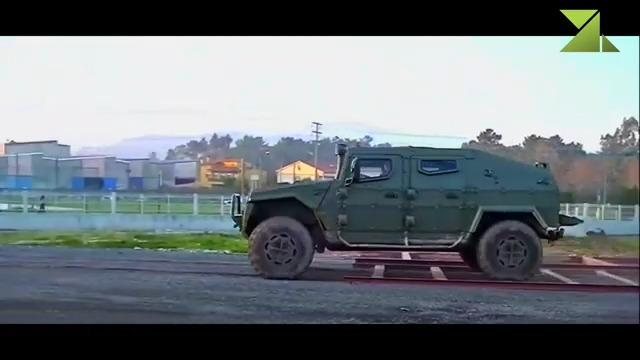MIL_HMMWV: (231, 138, 585, 282)
